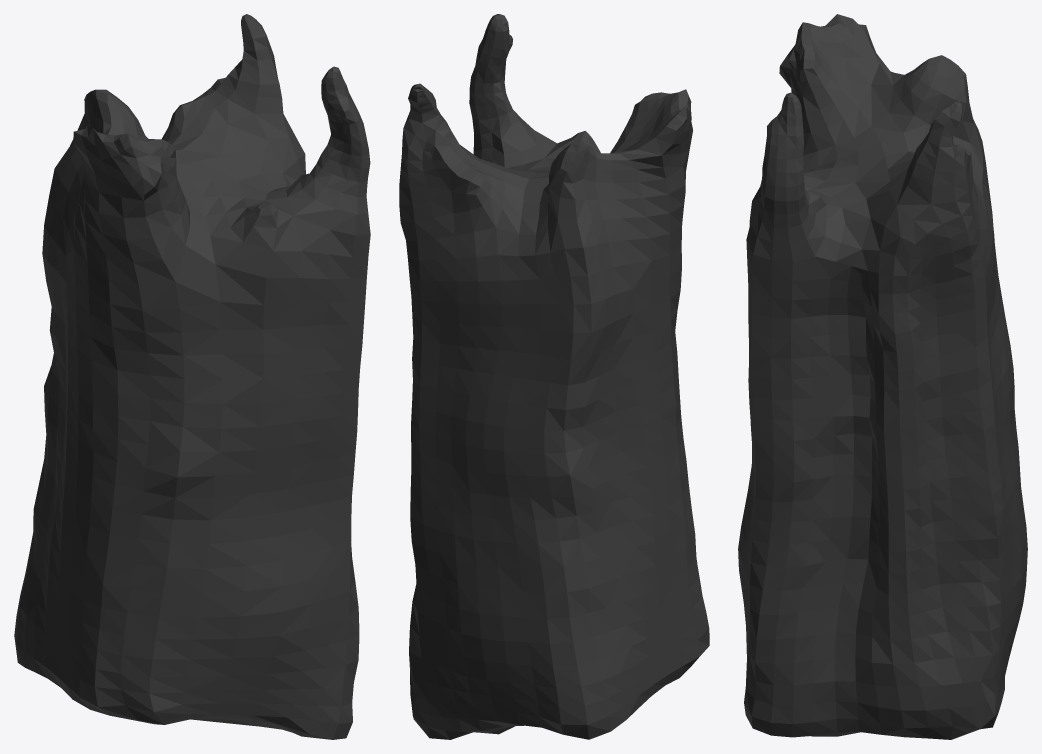
Rendered from R_max_M1_copy000.glb.
3 views of the same model, side by side, from view 1: azimuth 30°, elevation 25°; view 2: azimuth 150°, elevation 25°; view 3: azimuth 270°, elevation 25° (orthographic). The views are drawn at different scales.
Parts seen in each view (by area): view 1: R_max_M1_copy000; view 2: R_max_M1_copy000; view 3: R_max_M1_copy000.
Boxes of the visible parts, box(x1,y1,x2,y2) form: R_max_M1_copy000: box(14, 14, 370, 739); R_max_M1_copy000: box(399, 14, 709, 739); R_max_M1_copy000: box(738, 14, 1027, 739).
Bounding box in the file's own units: 0.4526 × 1.11 × 0.4464.
Materials: 1 (1 with a texture image).
